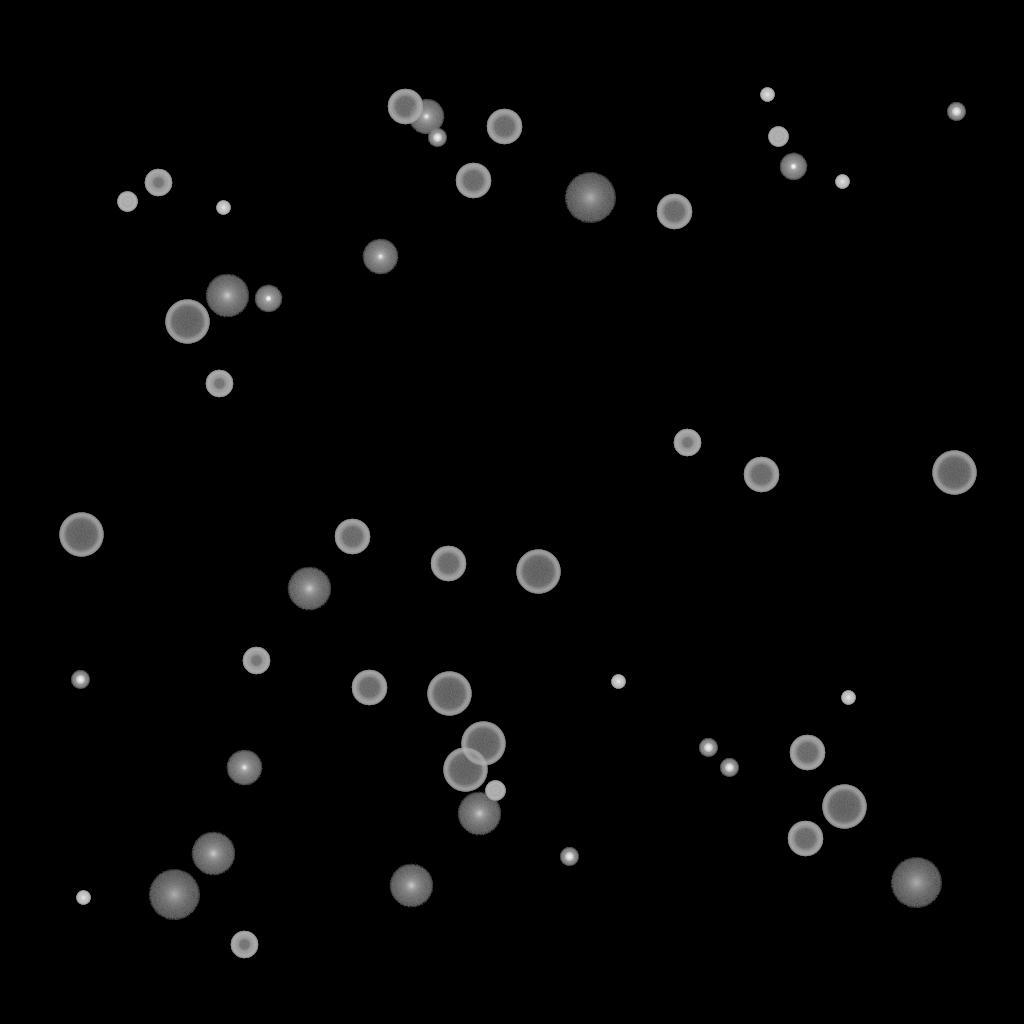depth:-10: (779, 153, 807, 181), (254, 285, 282, 313)
depth:-20: (71, 671, 89, 689), (720, 759, 738, 777), (560, 848, 578, 866), (428, 129, 446, 147), (699, 739, 717, 757), (947, 103, 965, 121)
depth:-30: (835, 175, 849, 189), (760, 88, 774, 102), (841, 691, 855, 705), (76, 891, 90, 905), (216, 201, 230, 215), (611, 675, 625, 689)
depth:-40: (485, 781, 505, 801), (768, 127, 788, 147), (117, 192, 137, 212)
depth:-50: (242, 647, 270, 675), (673, 429, 701, 457), (205, 370, 233, 398), (230, 931, 258, 959), (144, 169, 172, 197)
depth:-60: (387, 89, 423, 125), (334, 519, 370, 555), (787, 821, 823, 857), (656, 194, 692, 230), (455, 163, 491, 199), (743, 457, 779, 493), (486, 109, 522, 145), (789, 735, 825, 771), (430, 546, 466, 582), (351, 670, 387, 706)
depth:-70: (59, 513, 103, 557), (443, 748, 487, 792), (822, 785, 866, 829), (165, 300, 209, 344), (461, 722, 505, 766), (516, 550, 560, 594), (932, 451, 976, 495), (427, 672, 471, 716)
depth:0: (408, 99, 444, 135), (362, 239, 398, 275), (226, 750, 262, 786)
depth:10: (205, 274, 249, 318), (191, 832, 235, 876), (389, 864, 433, 908), (457, 792, 501, 836), (287, 567, 331, 611)
depth:20: (890, 858, 942, 908), (564, 173, 616, 223), (148, 870, 200, 920)
